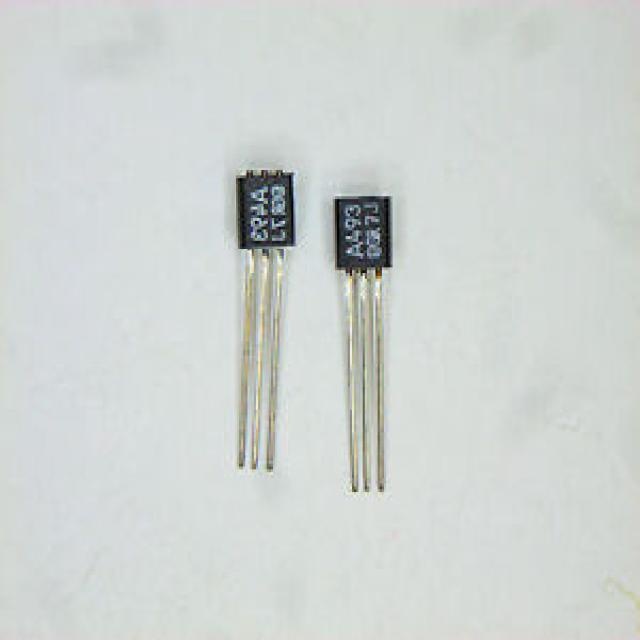Transistor: (323, 184, 411, 498), (225, 160, 300, 478)
